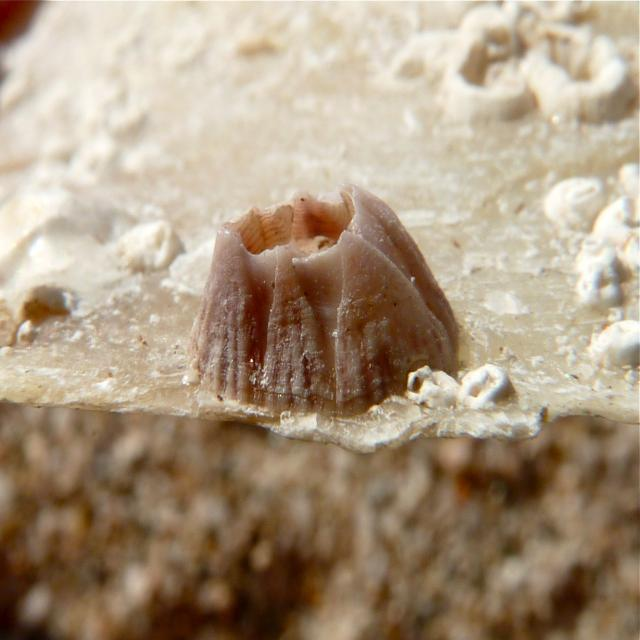barnacles: (188, 182, 464, 423)
